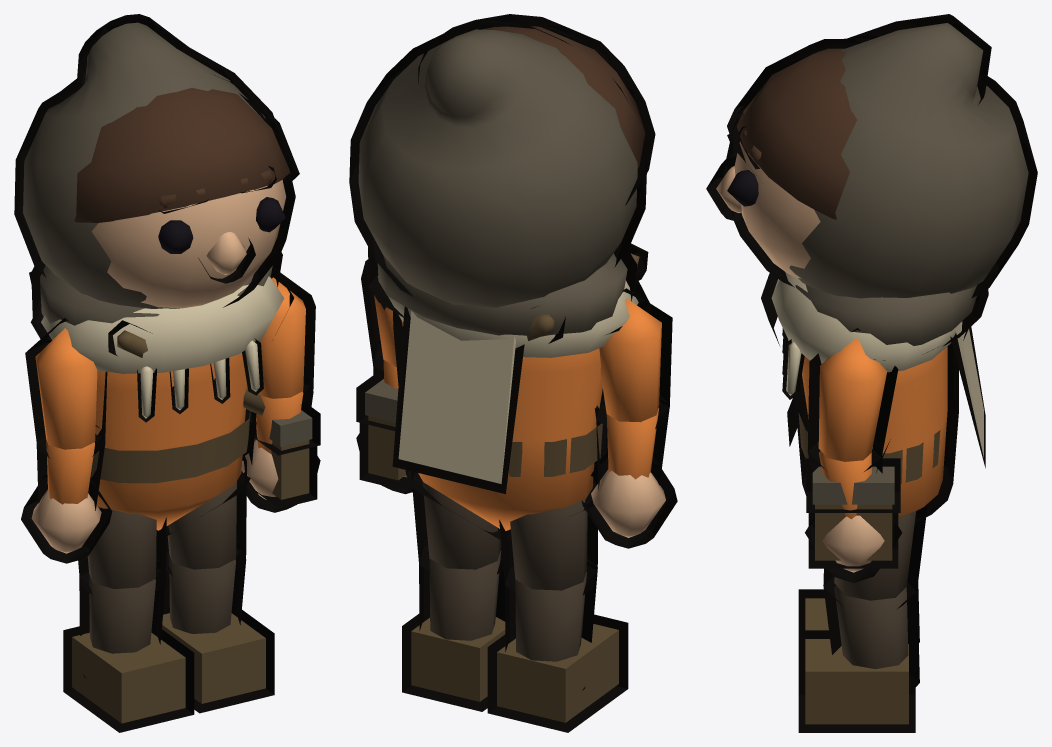
The model's file is herbalist.glb.
3 views of the same model, side by side, from view 1: azimuth 30°, elevation 25°; view 2: azimuth 150°, elevation 25°; view 3: azimuth 270°, elevation 25° (orthographic). The views are drawn at different scales.
Parts seen in each view (by area): view 1: Head, Head.001, Torso.001, LegR, Torso, LegL, ArmR, ArmL, HandR, HandL; view 2: Head.001, Torso.001, LegR, LegL, Torso, ArmR, Head, HandR, ArmL; view 3: Head.001, Head, Torso.001, LegL, Torso, ArmL, HandL, LegR.
Part boxes in pixels (left/top/right/bottom): Head: left=74, top=75, right=299, bottom=308; Head.001: left=14, top=14, right=282, bottom=308; Torso.001: left=29, top=252, right=320, bottom=508; LegR: left=63, top=506, right=194, bottom=732; Torso: left=90, top=352, right=256, bottom=539; LegL: left=162, top=454, right=274, bottom=713; ArmR: left=25, top=318, right=107, bottom=510; ArmL: left=245, top=267, right=315, bottom=453; HandR: left=21, top=474, right=112, bottom=563; HandL: left=241, top=439, right=320, bottom=512; Head.001: left=349, top=20, right=646, bottom=307; Torso.001: left=356, top=243, right=649, bottom=494; LegR: left=487, top=464, right=628, bottom=732; LegL: left=402, top=471, right=505, bottom=711; Torso: left=393, top=311, right=607, bottom=541; ArmR: left=594, top=288, right=672, bottom=490; Head: left=417, top=14, right=655, bottom=225; HandR: left=581, top=453, right=677, bottom=548; ArmL: left=361, top=259, right=403, bottom=388; Head.001: left=760, top=14, right=1037, bottom=298; Head: left=706, top=38, right=872, bottom=287; Torso.001: left=761, top=272, right=988, bottom=568; LegL: left=798, top=503, right=927, bottom=732; Torso: left=787, top=342, right=958, bottom=522; ArmL: left=807, top=328, right=898, bottom=519; HandL: left=805, top=515, right=902, bottom=582; LegR: left=798, top=582, right=919, bottom=642.
Size of the model in its own units: 0.9001 by 1.97 by 0.8683.
